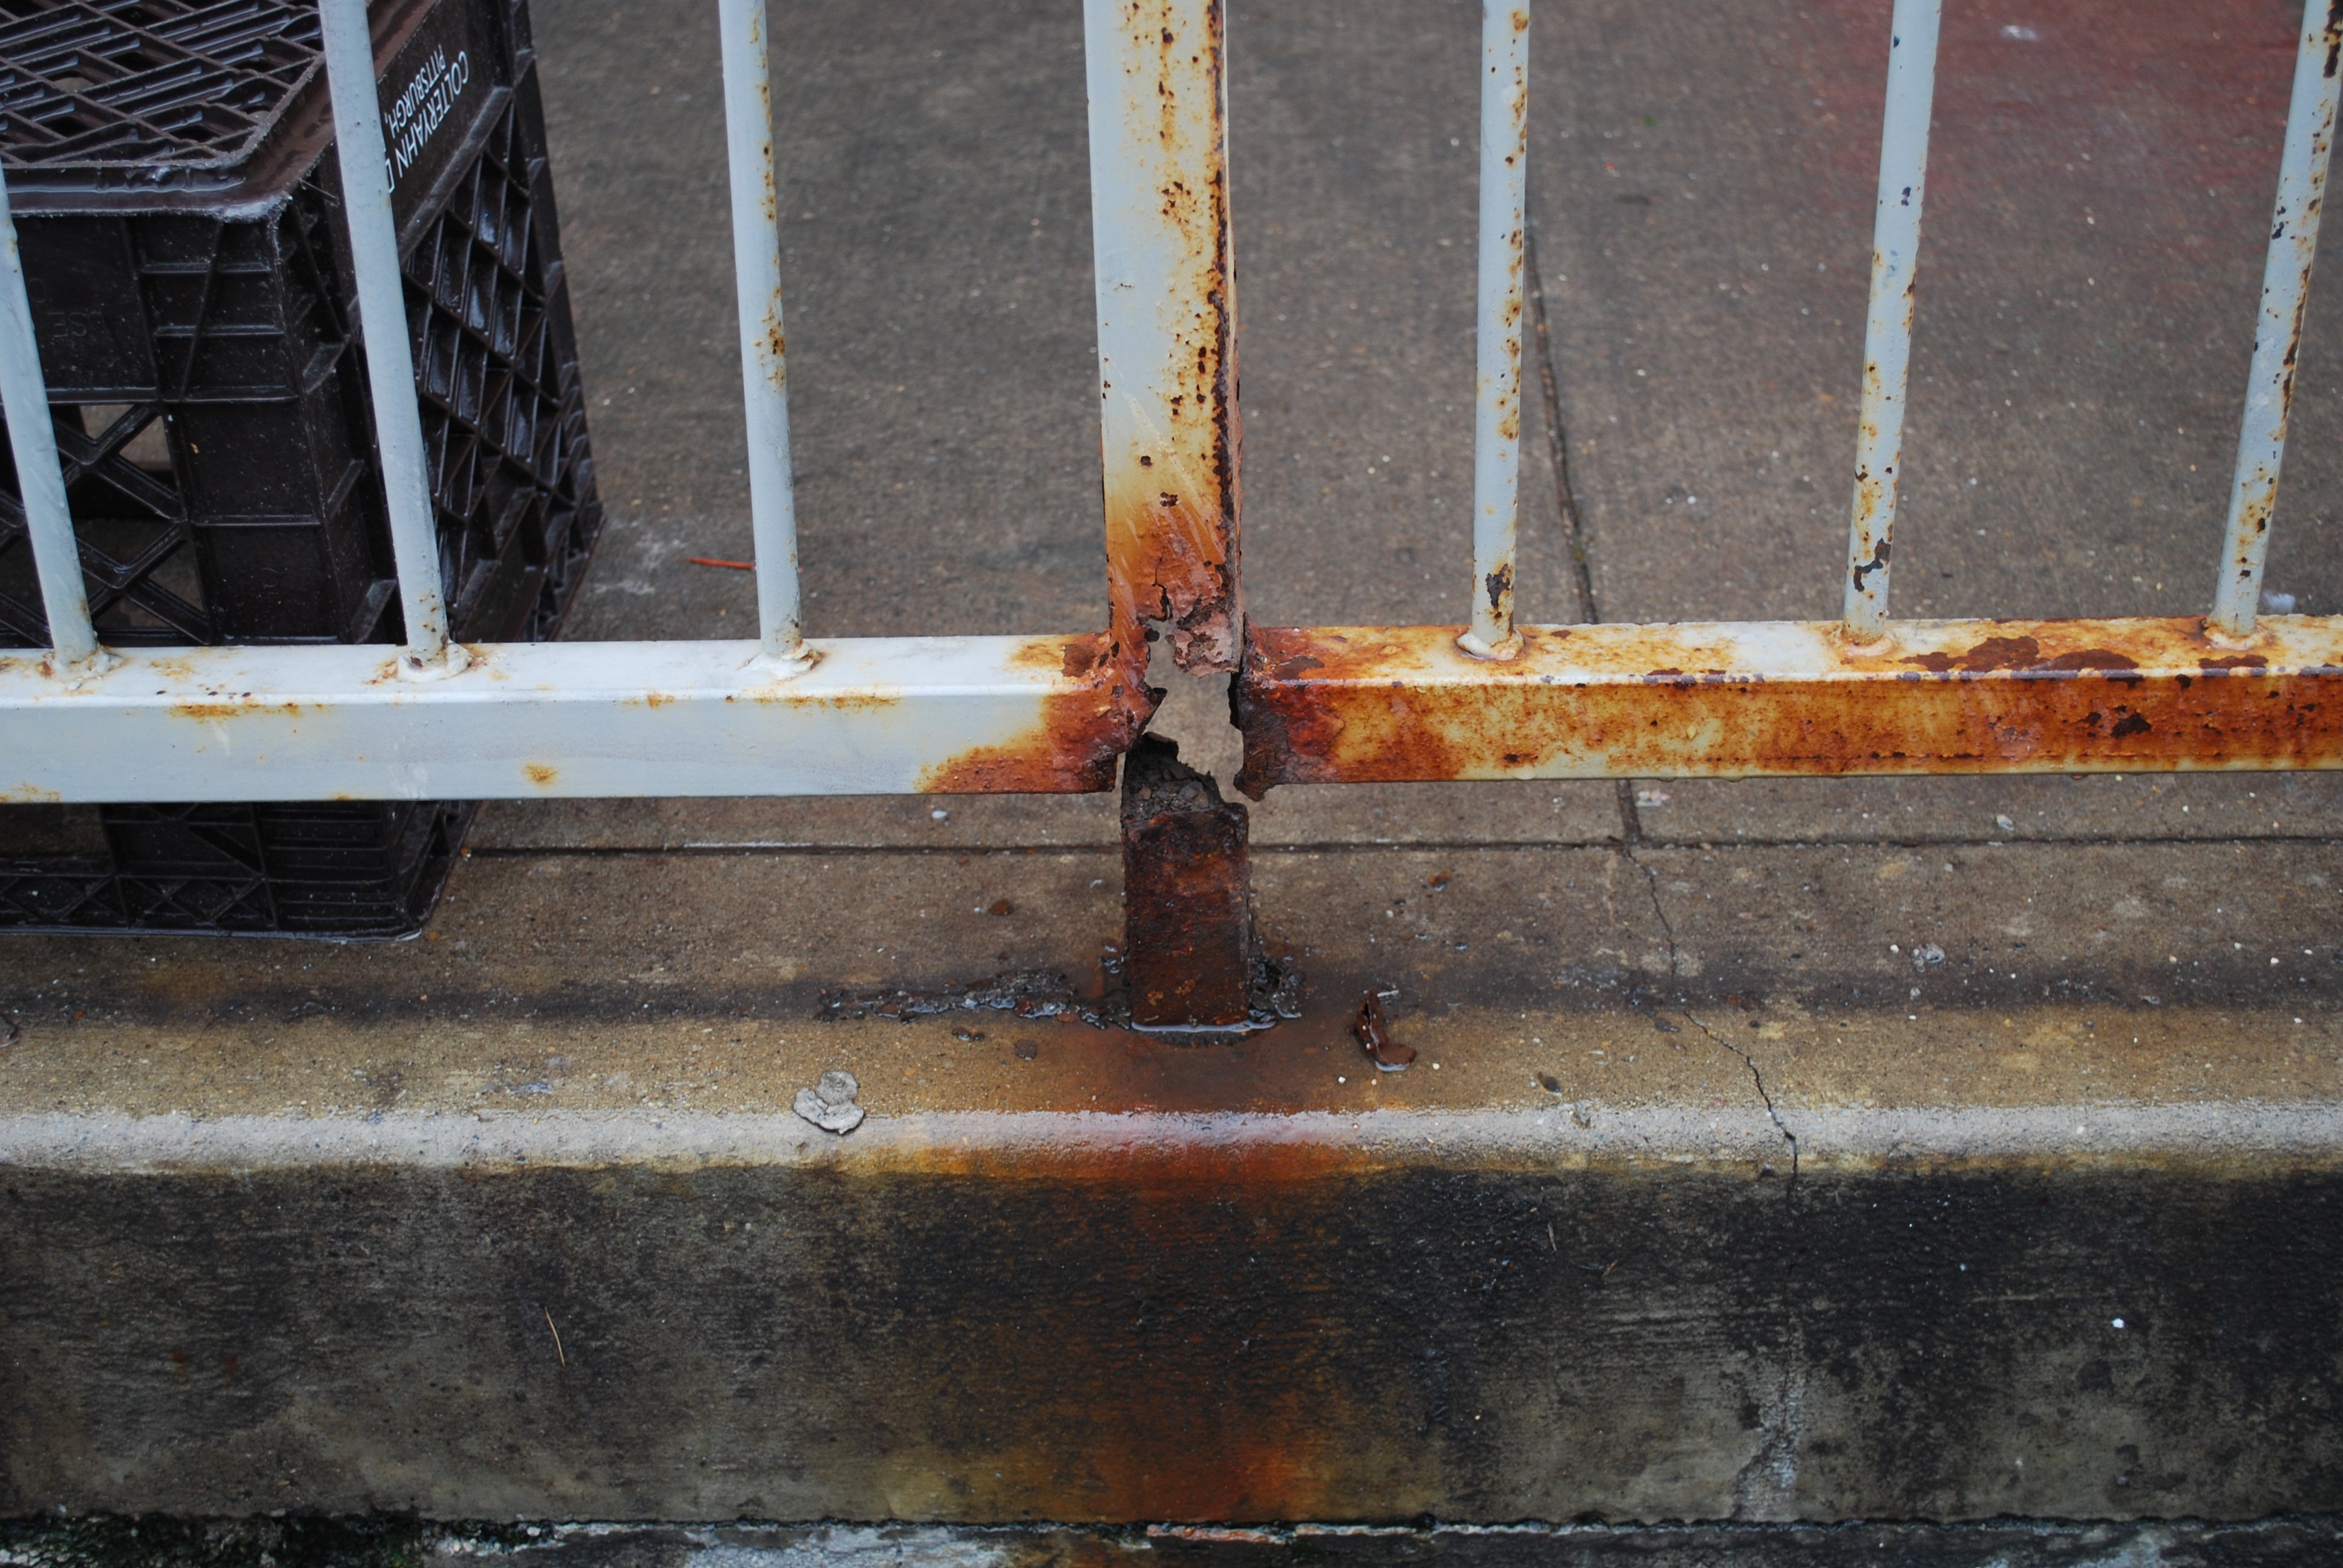rust: (1286, 647, 2333, 765), (1099, 485, 1251, 661), (1136, 803, 1255, 1022), (1027, 644, 1136, 779)
